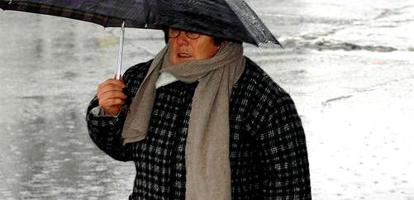person: (87, 27, 312, 200)
